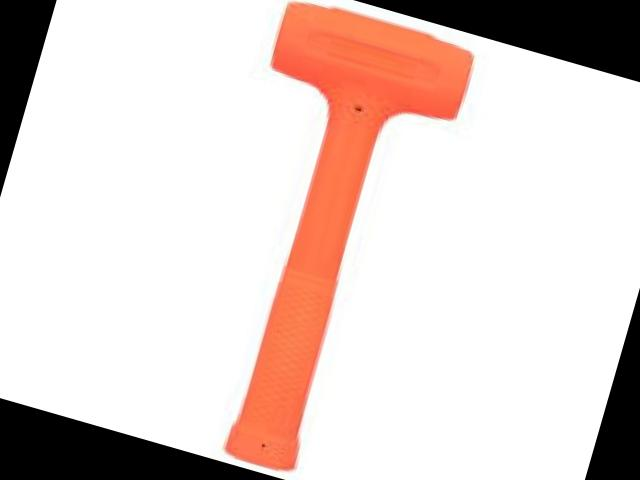hammer: (162, 0, 477, 480)
